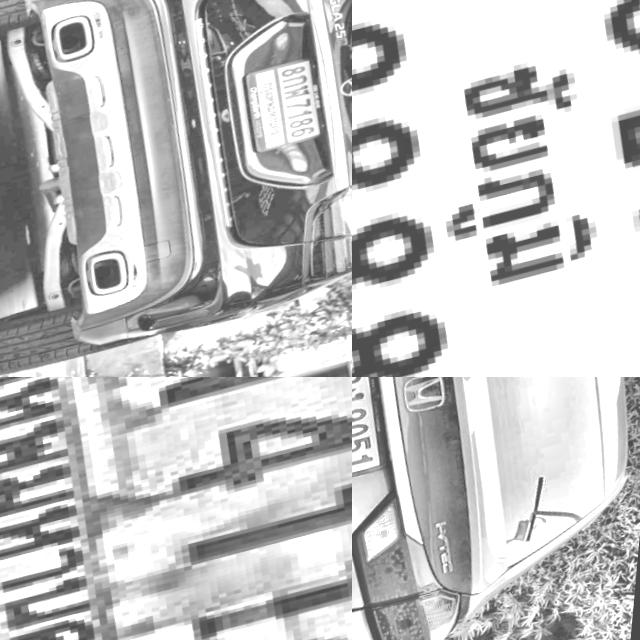license-plate: (352, 0, 640, 377), (0, 377, 352, 640), (238, 56, 336, 156), (352, 377, 411, 493)
